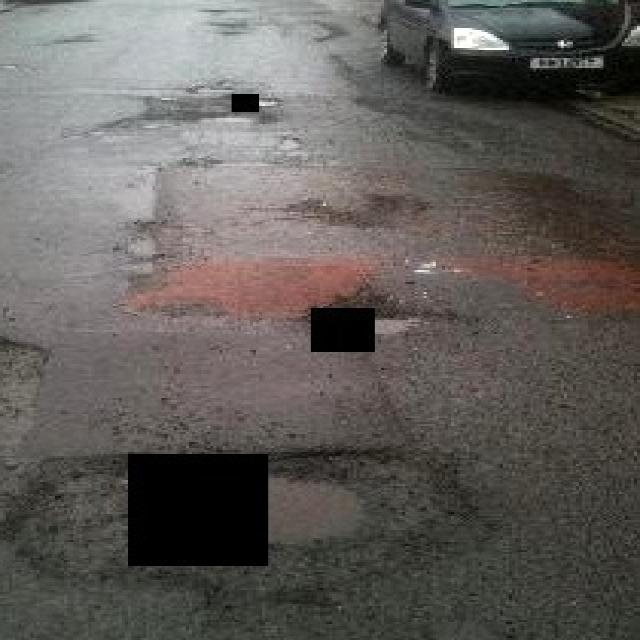road-pothole: (0, 450, 515, 625), (375, 306, 462, 342)
